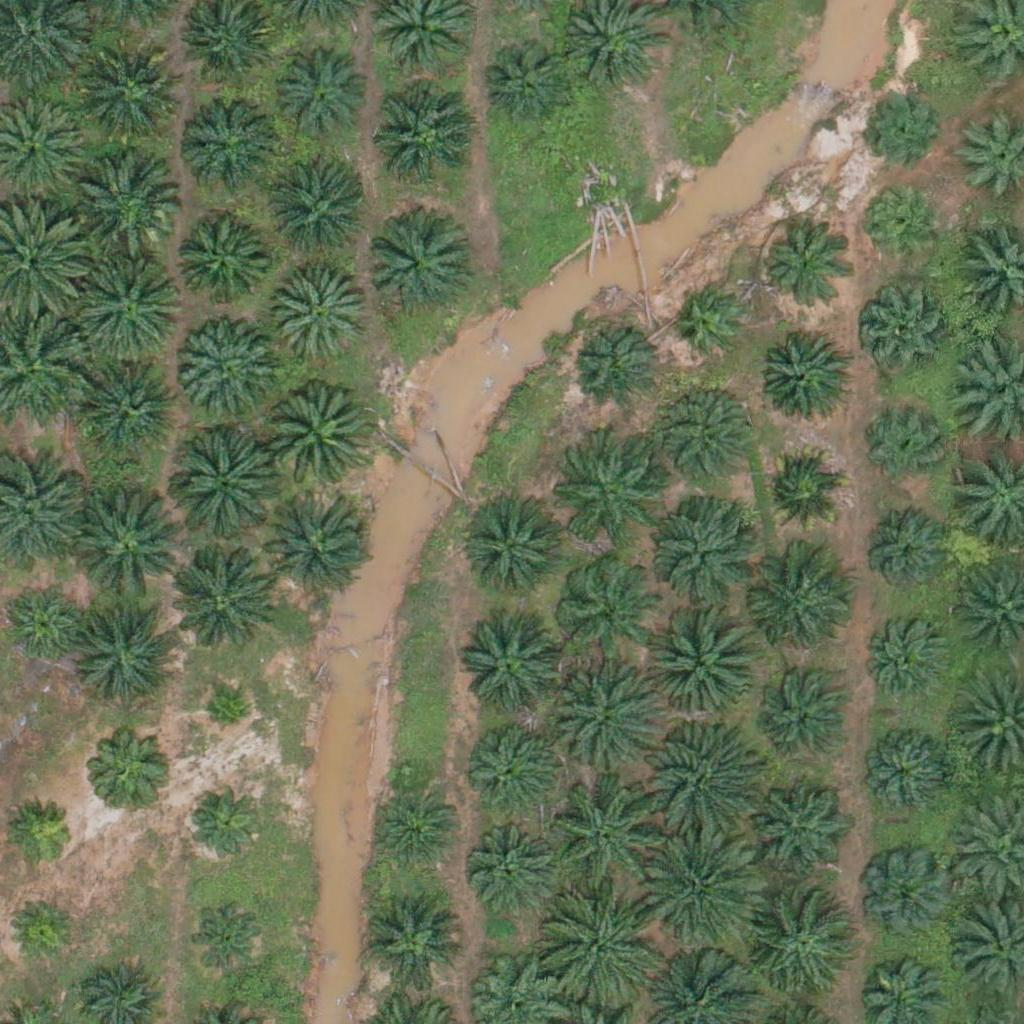Kelapa_Sawit: (648, 832, 761, 945), (648, 721, 761, 834), (647, 603, 760, 716), (648, 488, 761, 601), (545, 663, 658, 776), (547, 892, 660, 1005), (164, 428, 277, 541), (161, 545, 274, 658), (69, 145, 182, 258), (68, 487, 180, 601), (72, 246, 184, 360), (744, 547, 856, 660), (746, 897, 858, 1010), (552, 777, 664, 890), (260, 380, 372, 493), (257, 488, 369, 601), (73, 597, 185, 710), (855, 845, 955, 946), (747, 785, 847, 886), (549, 445, 649, 546), (555, 557, 655, 658), (461, 711, 561, 812), (461, 619, 561, 720), (467, 493, 567, 594), (363, 891, 463, 992), (364, 217, 464, 318), (271, 266, 371, 367), (169, 211, 269, 312), (176, 319, 276, 420), (856, 724, 956, 824), (656, 380, 756, 480), (464, 813, 564, 913), (269, 168, 369, 268), (83, 357, 183, 457), (373, 85, 473, 185), (269, 44, 369, 144), (181, 89, 281, 189), (76, 48, 176, 148), (185, 894, 273, 983), (858, 183, 946, 271), (862, 401, 950, 489), (863, 513, 951, 601), (863, 618, 951, 706), (571, 321, 659, 409), (85, 720, 173, 808), (860, 284, 947, 372), (762, 225, 849, 313), (758, 330, 845, 418), (183, 776, 270, 864), (758, 448, 845, 536), (755, 669, 842, 757), (370, 779, 457, 867), (860, 84, 947, 172), (484, 37, 571, 125), (674, 287, 749, 363), (5, 797, 80, 872), (5, 893, 80, 968), (202, 691, 252, 741)
